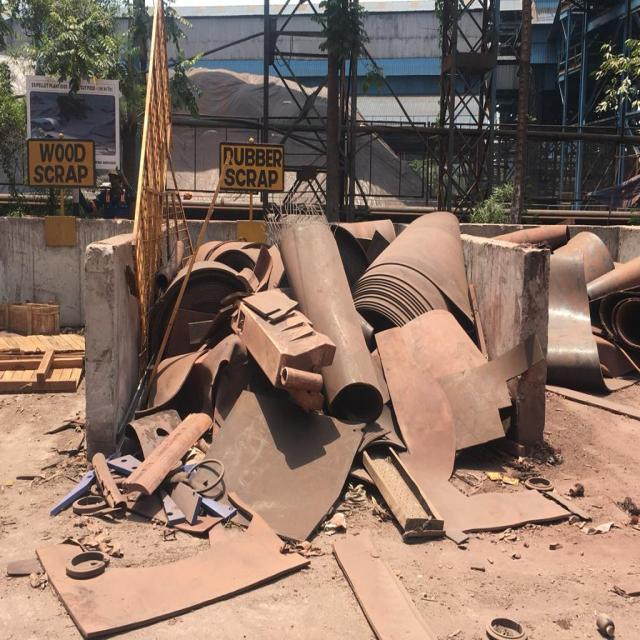dustbins: (88, 215, 549, 457)
